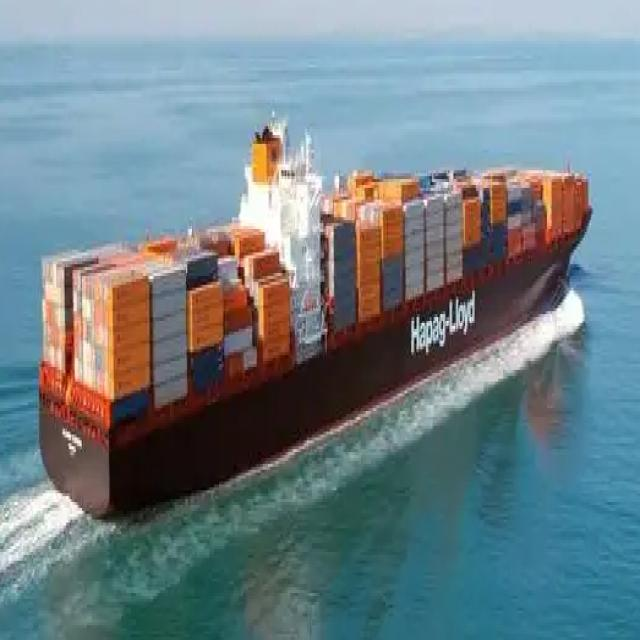cargoship: (35, 105, 598, 512)
